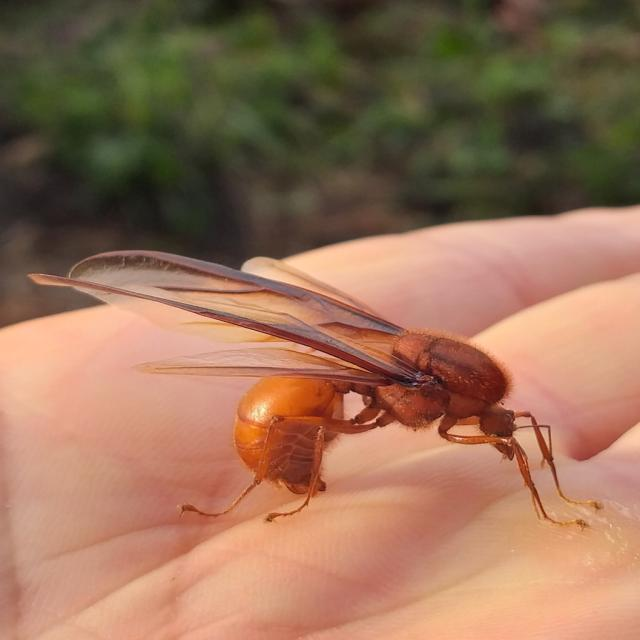Alive-Male-Alate: (27, 249, 604, 533)
